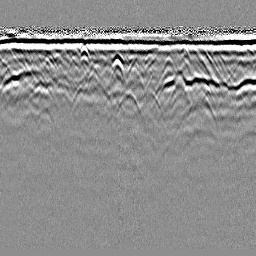cavity: (114, 87, 143, 112)
